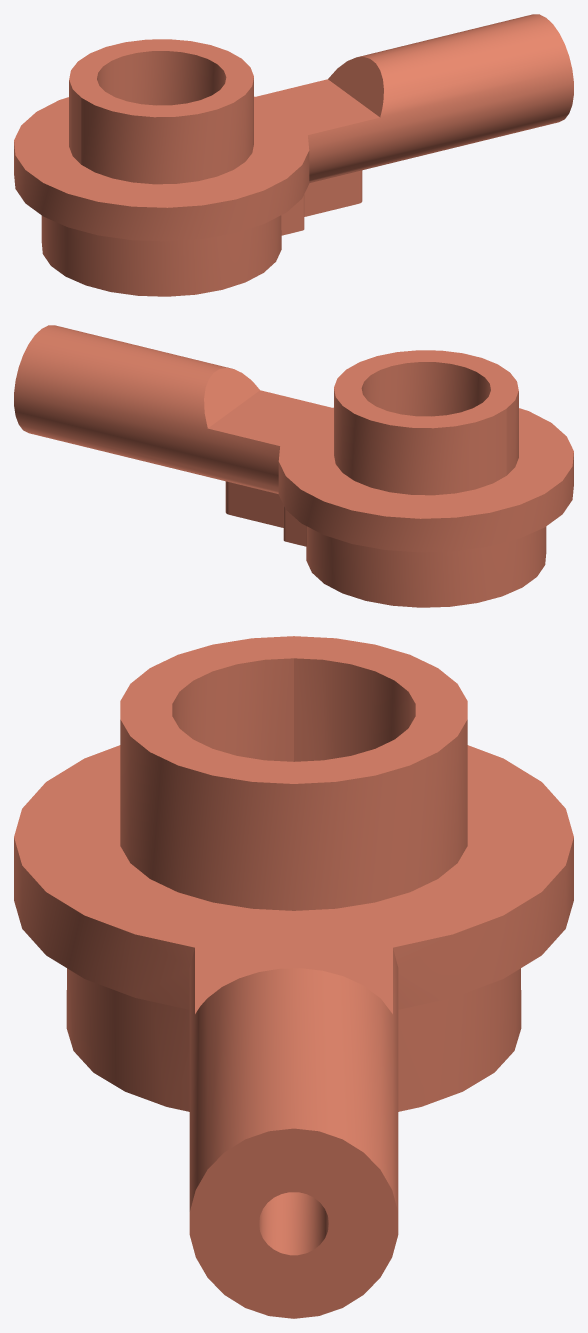
3 renders of one model, top to bottom at view 1: azimuth 30°, elevation 25°; view 2: azimuth 150°, elevation 25°; view 3: azimuth 270°, elevation 25°, orthographic. The views are drawn at different scales.
Parts seen in each view (by area): view 1: [pivoted]; view 2: [pivoted]; view 3: [pivoted].
Boxes of the visible parts, x1,y1,x2,y2 form: [pivoted]: (14, 14, 573, 296); [pivoted]: (14, 325, 573, 607); [pivoted]: (14, 636, 573, 1318).
Size of the model in its own units: 1.6 by 0.5 by 0.8.
